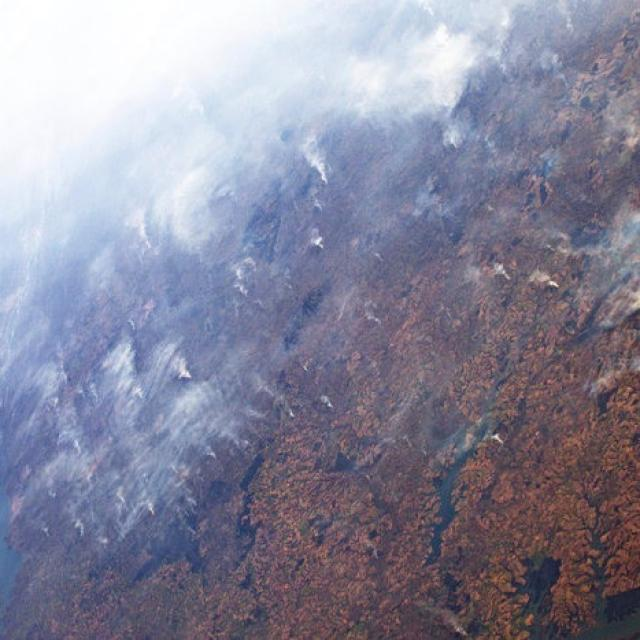Smoke: (0, 0, 322, 241), (323, 0, 635, 245)
